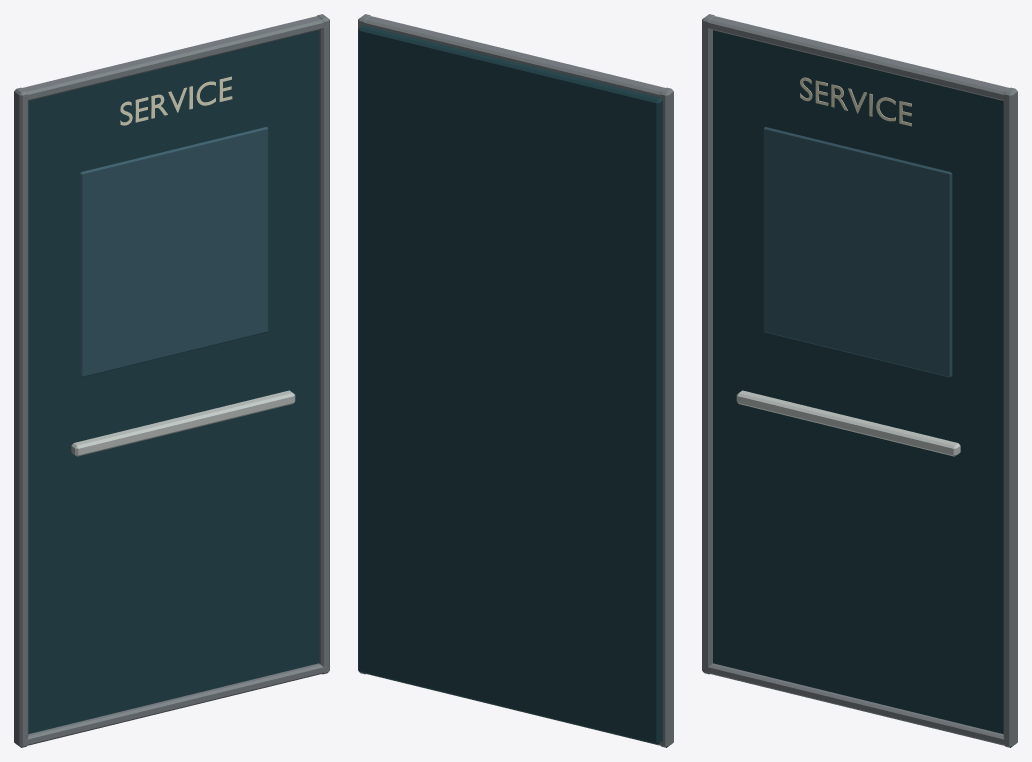
Rendered from BuildingServiceDoor.fbx.
3 views of the same model, side by side, from view 1: azimuth 30°, elevation 25°; view 2: azimuth 150°, elevation 25°; view 3: azimuth 330°, elevation 25° (orthographic).
Visible parts, largest first — view 1: BuildingServiceDoor; view 2: BuildingServiceDoor; view 3: BuildingServiceDoor.
Part boxes in pixels (left/top/right/bottom): BuildingServiceDoor: left=14, top=14, right=329, bottom=747; BuildingServiceDoor: left=358, top=14, right=673, bottom=747; BuildingServiceDoor: left=702, top=14, right=1017, bottom=747.
Bounding box in the file's own units: 118 × 239 × 15.
Materials: 1 (1 with a texture image).
